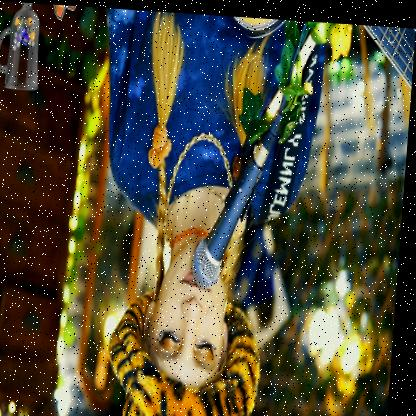streamer: (79, 5, 328, 416)
